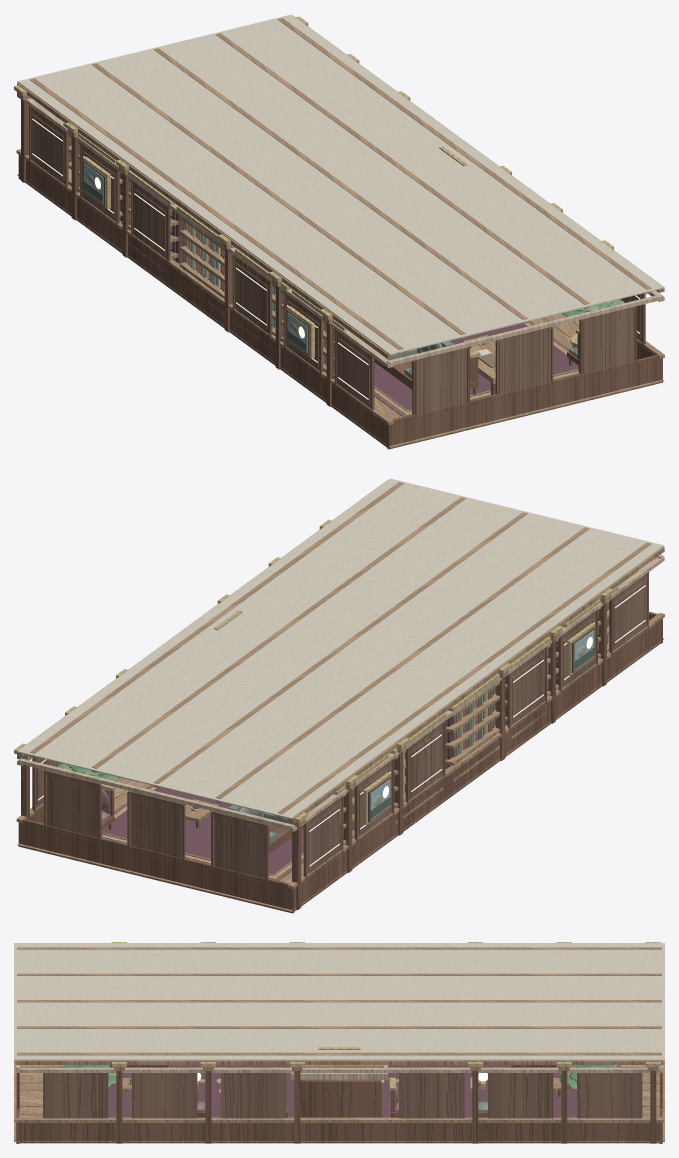
The model's file is library.gltf.
3 views of the same model, one above another, from view 1: azimuth 30°, elevation 25°; view 2: azimuth 150°, elevation 25°; view 3: azimuth 270°, elevation 25° (orthographic). The views are drawn at different scales.
Parts seen in each view (by area): view 1: plaster, oakdark, oak, walnut, woodlight, gold, burgundy, sky; view 2: plaster, oakdark, oak, walnut, gold, woodlight, burgundy, sky; view 3: plaster, oakdark, oak, walnut, woodlight, burgundy, gold, plant.
Boxes of the visible parts, x1,y1,x2,y2 form: plaster: [17, 14, 664, 355]; oakdark: [18, 99, 662, 449]; oak: [16, 16, 664, 447]; walnut: [30, 108, 642, 414]; woodlight: [17, 96, 664, 440]; gold: [14, 16, 613, 412]; burgundy: [369, 323, 578, 411]; sky: [83, 163, 307, 353]; plaster: [17, 478, 664, 819]; oakdark: [18, 572, 662, 913]; oak: [16, 480, 664, 911]; walnut: [35, 574, 647, 878]; gold: [14, 519, 618, 877]; woodlight: [17, 555, 664, 875]; burgundy: [102, 787, 313, 876]; sky: [370, 630, 594, 819]; plaster: [14, 943, 664, 1060]; oakdark: [16, 1065, 662, 1143]; oak: [14, 947, 664, 1141]; walnut: [19, 1067, 659, 1118]; woodlight: [14, 1065, 663, 1142]; burgundy: [108, 1065, 576, 1117]; gold: [111, 942, 660, 1090]; plant: [63, 1065, 615, 1084].
Size of the model in its own units: 9.28 by 3.01 by 20.85.
30 materials, 30 textured.
